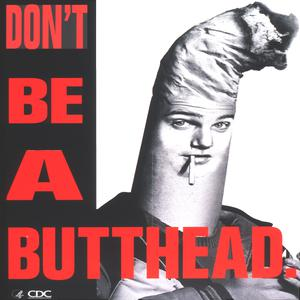cigarette: (189, 155, 196, 188)
